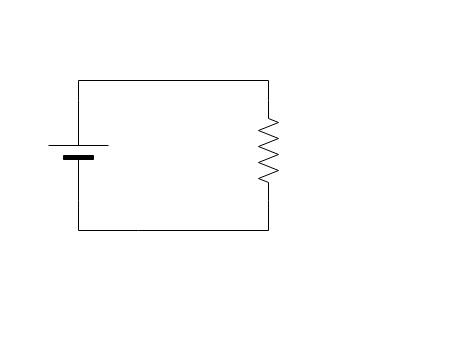resistor: (244, 103, 290, 194)
